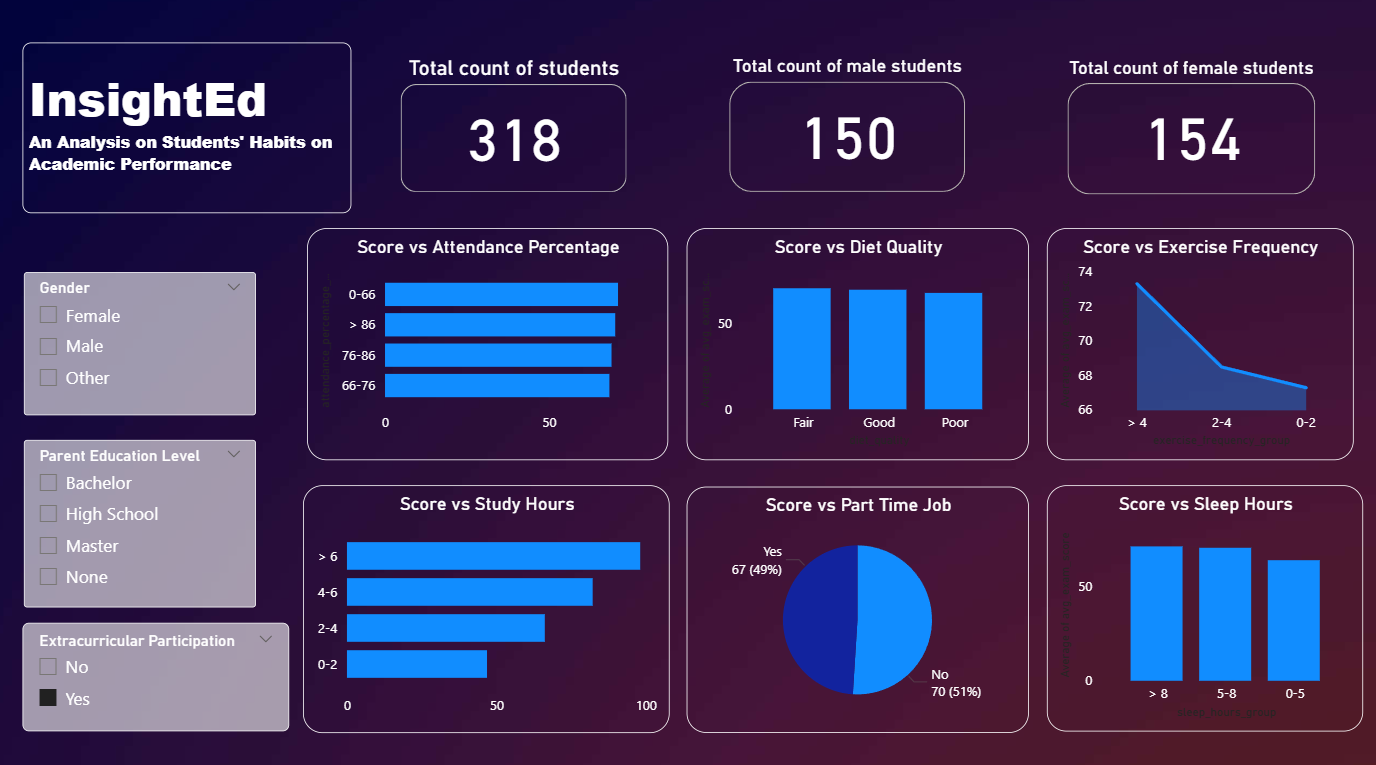

Layout of this report page (visuals, bound fields, positions):
{"tool":"powerbi","page":{"name":"Page 1","canvas":[1280,720],"ordinal":0},"visuals":[{"type":"cardVisual","title":"Total count of students","fields":{"Data":["Sum(dataset.count_of_students)"]},"box":[369.9,57.2,219.9,132.2],"z":0},{"type":"cardVisual","title":"Total count of female students","fields":{"Data":["Sum(dataset.count_of_students)"]},"box":[985.8,58.5,239.5,133],"z":1000},{"type":"cardVisual","title":"Total count of male students","fields":{"Data":["Sum(dataset.count_of_students)"]},"box":[673.1,57.2,228.8,131.7],"z":2000},{"type":"barChart","title":"Score vs Attendance Percentage","fields":{"Category":["dataset.attendance_percentage_group"],"Y":["Avg(dataset.avg_exam_score)"]},"box":[288.7,216.8,333.9,214.2],"z":3000},{"type":"clusteredColumnChart","title":"Score vs Diet Quality","fields":{"Y":["Avg(dataset.avg_exam_score)"],"Category":["dataset.diet_quality"]},"box":[639.9,216.8,316.6,214.2],"z":4000},{"type":"stackedAreaChart","title":"Score vs Exercise Frequency","fields":{"Category":["dataset.exercise_frequency_group"],"Y":["Avg(dataset.avg_exam_score)"]},"box":[972.5,216.8,283.4,214.2],"z":5000},{"type":"barChart","title":"Score vs Study Hours","fields":{"Category":["dataset.study_hours_per_day_group"],"Y":["Avg(dataset.avg_exam_score)"]},"box":[284.7,455,339.2,228.8],"z":6000},{"type":"pieChart","title":"Score vs Part Time Job","fields":{"Category":["dataset.part_time_job"],"Y":["Avg(dataset.avg_exam_score)"]},"box":[639.9,456.3,316.6,227.5],"z":7000},{"type":"clusteredColumnChart","title":"Score vs Sleep Hours","fields":{"Y":["Avg(dataset.avg_exam_score)"],"Category":["dataset.sleep_hours_group"]},"box":[972.5,455,292.7,227.5],"z":8000},{"type":"slicer","fields":{"Values":["dataset.gender"]},"box":[26.7,258,214.8,132.2],"z":9000},{"type":"slicer","fields":{"Values":["dataset.parental_education_level"]},"box":[26.7,413.1,214.8,155.1],"z":10000},{"type":"slicer","fields":{"Values":["dataset.extracurricular_participation"]},"box":[25.4,582.1,246.6,100.4],"z":11000},{"type":"textbox","box":[25.4,45.8,303.8,157.6],"z":12000}]}

Visuals, with their boxes in screenshot pixels (x1, y1, x2, y2), scaled from the page's 1280x720 canvas onto the 1376x765 screenshot:
"Total count of students" cardVisual: <region>398, 61, 634, 201</region>
"Total count of female students" cardVisual: <region>1060, 62, 1317, 203</region>
"Total count of male students" cardVisual: <region>724, 61, 970, 201</region>
"Score vs Attendance Percentage" barChart: <region>310, 230, 669, 458</region>
"Score vs Diet Quality" clusteredColumnChart: <region>688, 230, 1028, 458</region>
"Score vs Exercise Frequency" stackedAreaChart: <region>1045, 230, 1350, 458</region>
"Score vs Study Hours" barChart: <region>306, 483, 671, 727</region>
"Score vs Part Time Job" pieChart: <region>688, 485, 1028, 727</region>
"Score vs Sleep Hours" clusteredColumnChart: <region>1045, 483, 1360, 725</region>
slicer - dataset.gender: <region>29, 274, 260, 415</region>
slicer - dataset.parental_education_level: <region>29, 439, 260, 604</region>
slicer - dataset.extracurricular_participation: <region>27, 618, 292, 725</region>
textbox: <region>27, 49, 354, 216</region>
